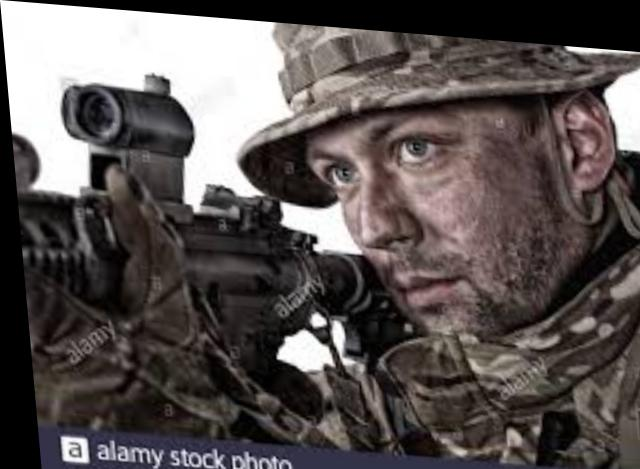other: (287, 18, 640, 430)
